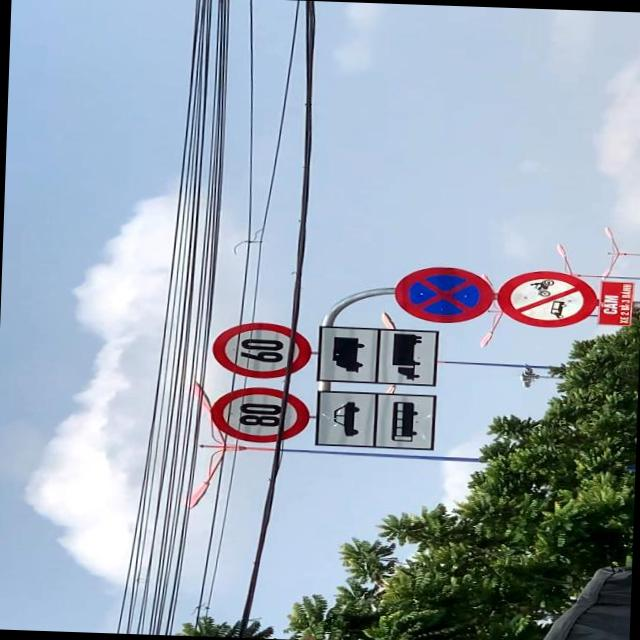P-104: (496, 270, 594, 326)
P-127: (212, 320, 311, 377), (210, 387, 309, 442)
P-130: (392, 266, 496, 323)
